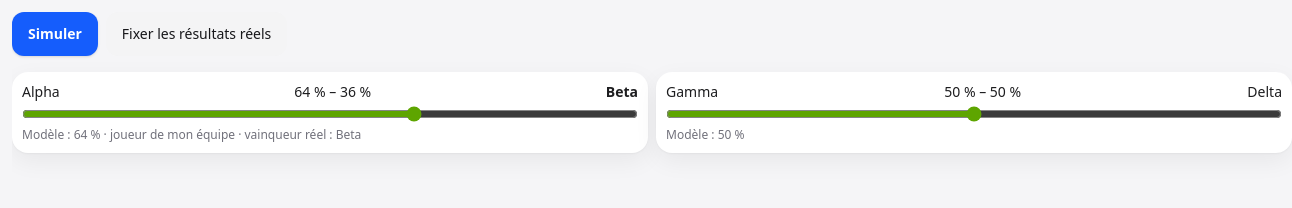
it: ScenarioFantasy › affiche l’erreur renvoyée par le serveur
Click the button "Simuler".
click(55, 34)  # box [12,12,98,56]
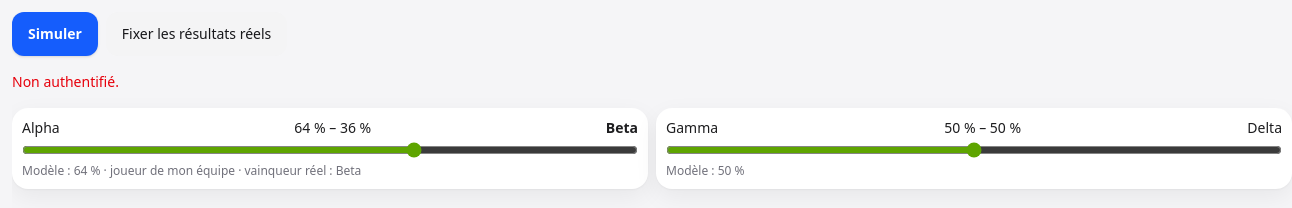
Check: the text "Non authentifié." is shown, box [12,72,119,91]
